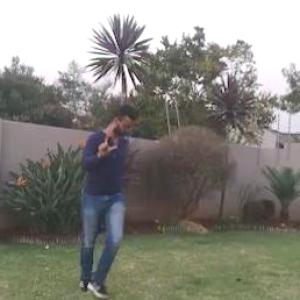land_hand: (93, 127, 119, 158)
